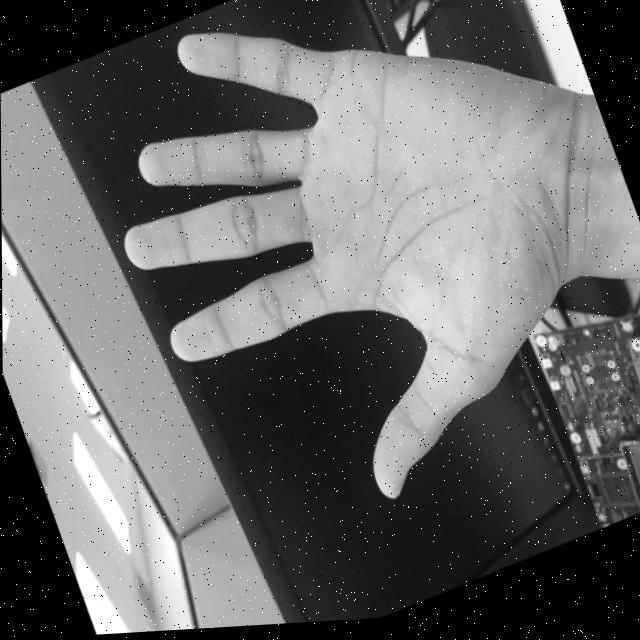no-gloves: (64, 0, 640, 574)
